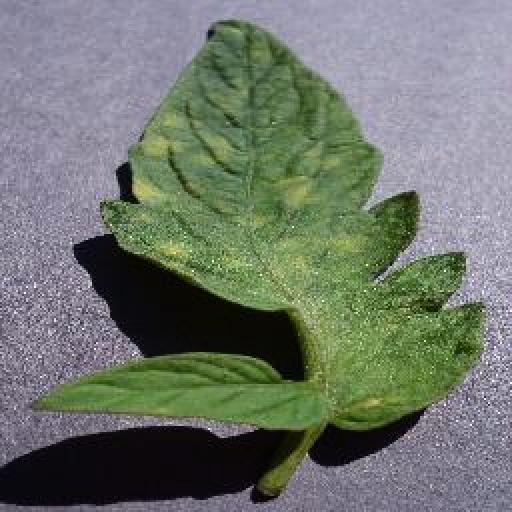disease_tomato: (99, 20, 484, 434)
